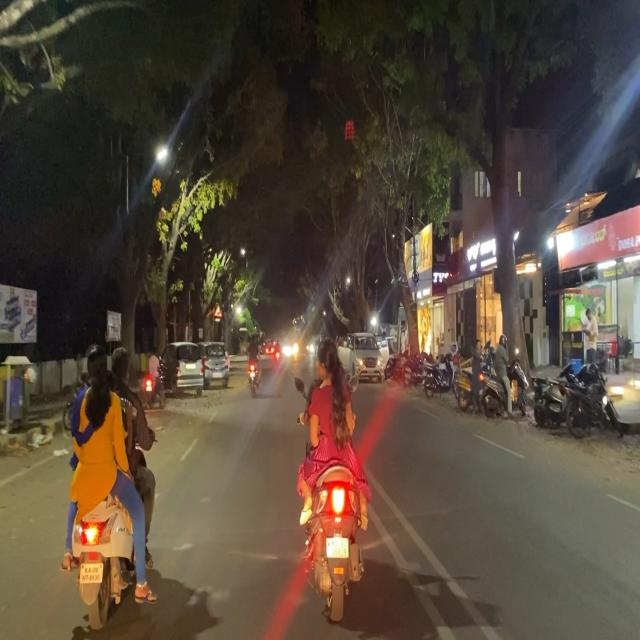bien_nguy_hiem: (214, 303, 222, 318)
